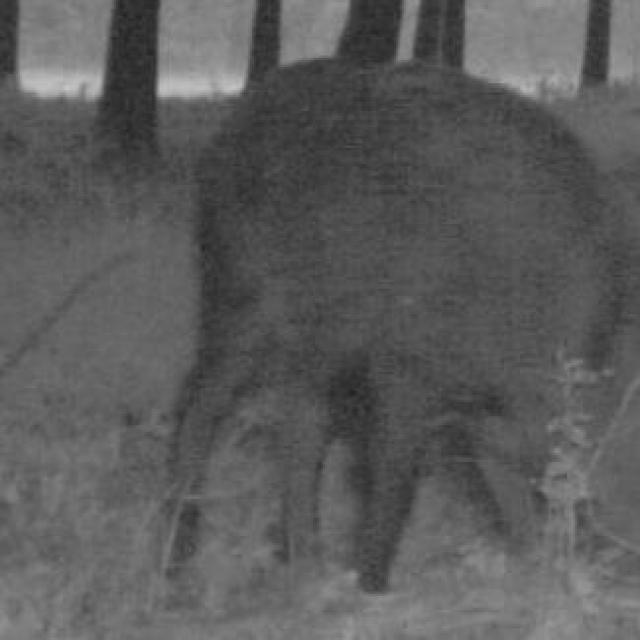pig: (164, 44, 640, 640)
